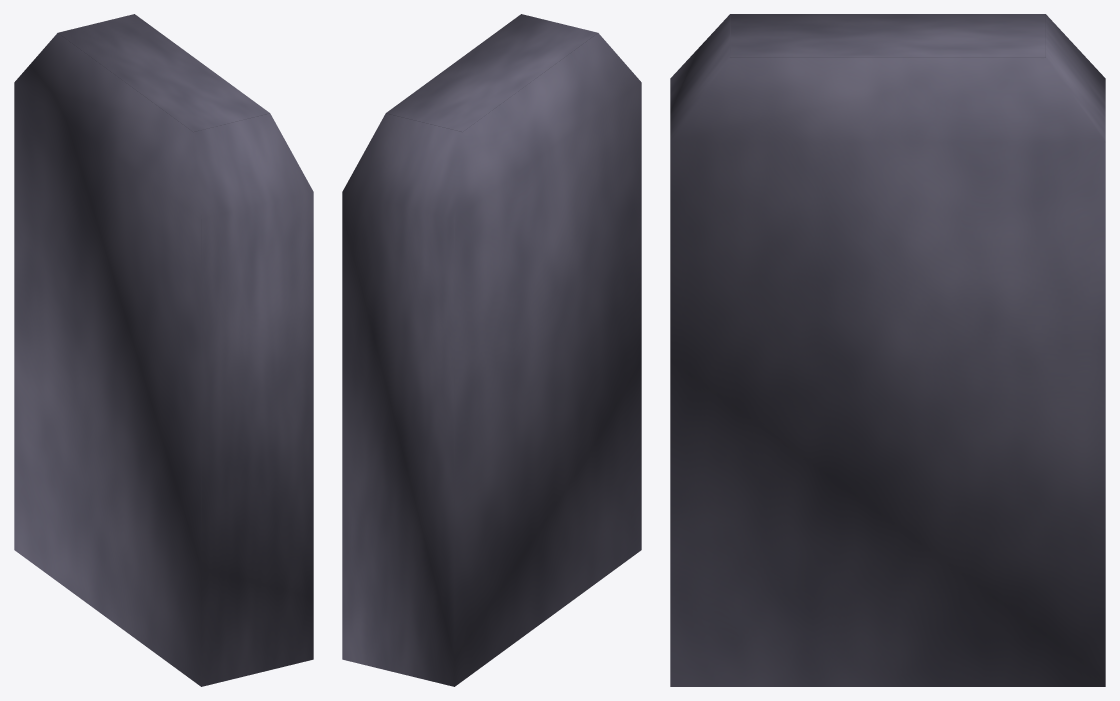
Rendered from StonePillar.glb.
The picture shows the model from 3 angles, left to right: view 1: azimuth 30°, elevation 25°; view 2: azimuth 150°, elevation 25°; view 3: azimuth 270°, elevation 25°; orthographic projection. The views are drawn at different scales.
Visible parts, largest first — view 1: StonePillar; view 2: StonePillar; view 3: StonePillar.
Part boxes in pixels (<box>): StonePillar: <box>14,14,313,686</box>; StonePillar: <box>342,14,641,686</box>; StonePillar: <box>670,14,1105,686</box>.
Bounding box in the file's own units: 0.6934 × 3.14 × 2.
1 material, 1 textured.
